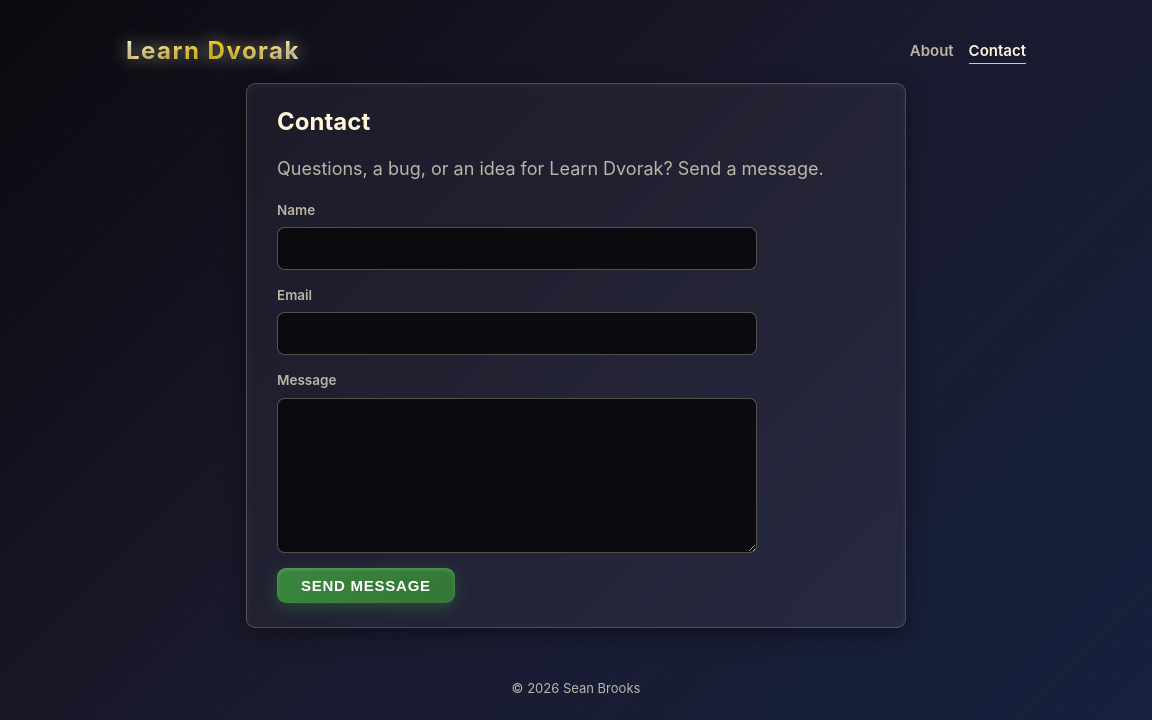
Scenario: the Contact form › locks the form while the message is sending
In the field labelled "Name": (517,249) [277,227,757,270], type "Ada"
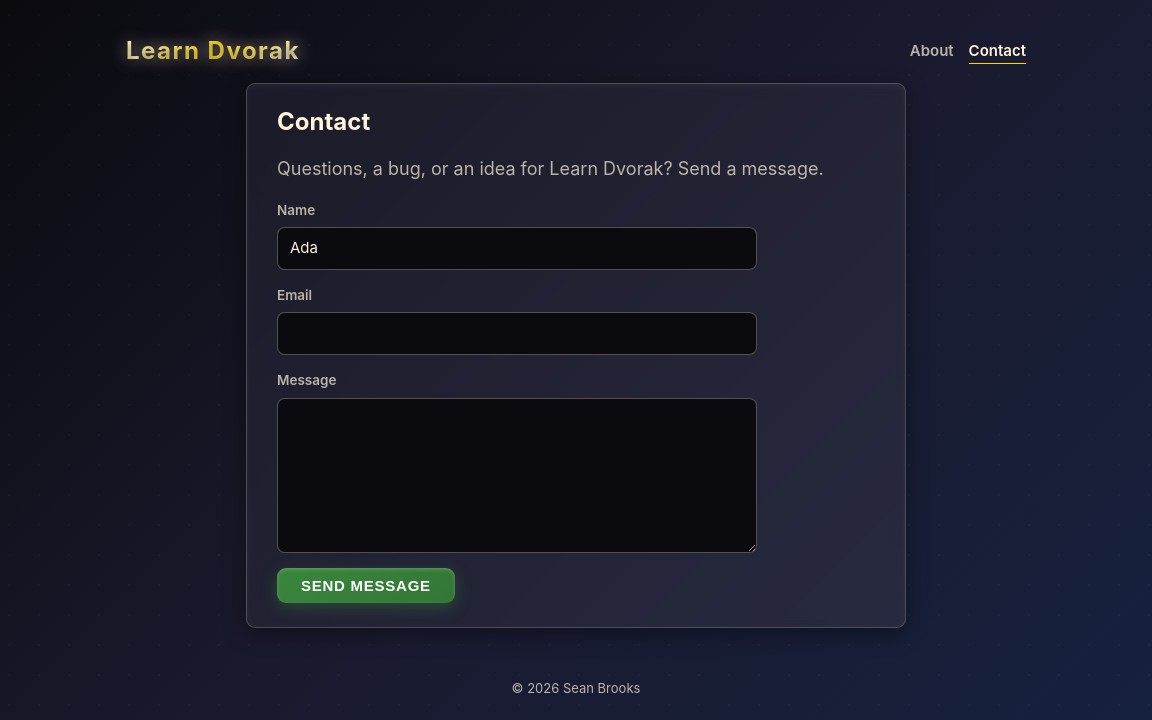
In the field labelled "Email": (517,334) [277,312,757,355], type "ada@example.com"
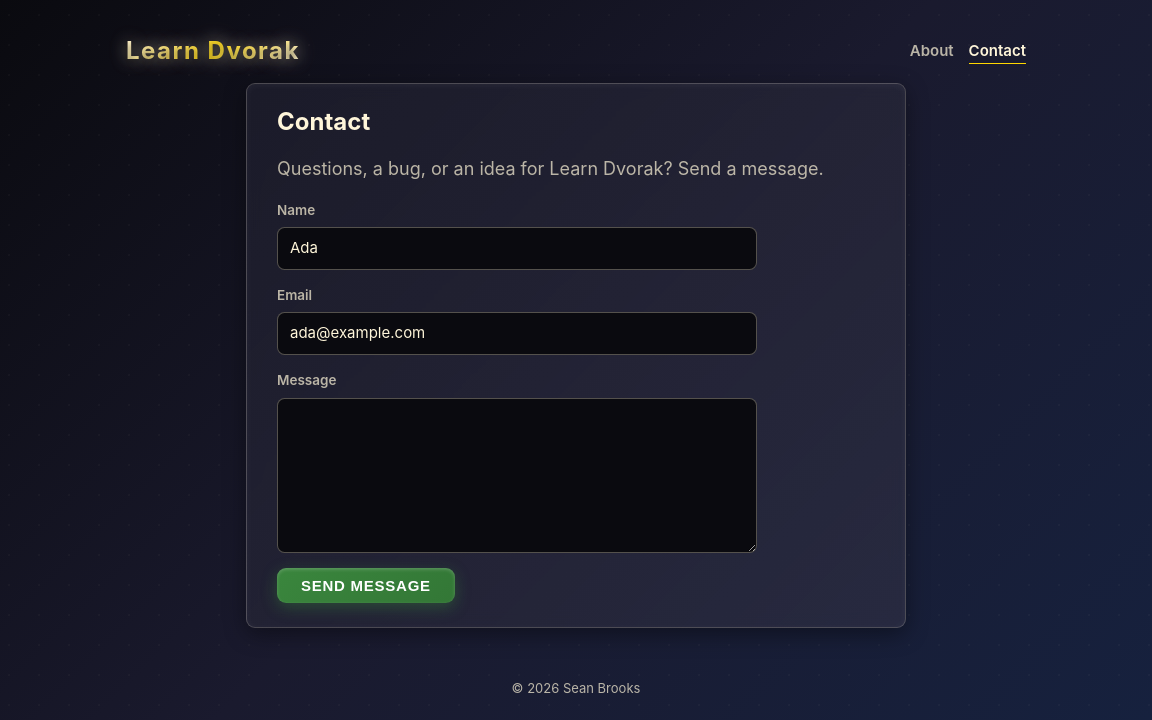
In the text box labelled "Message": (517,475) [277,398,757,553], type "Hello"
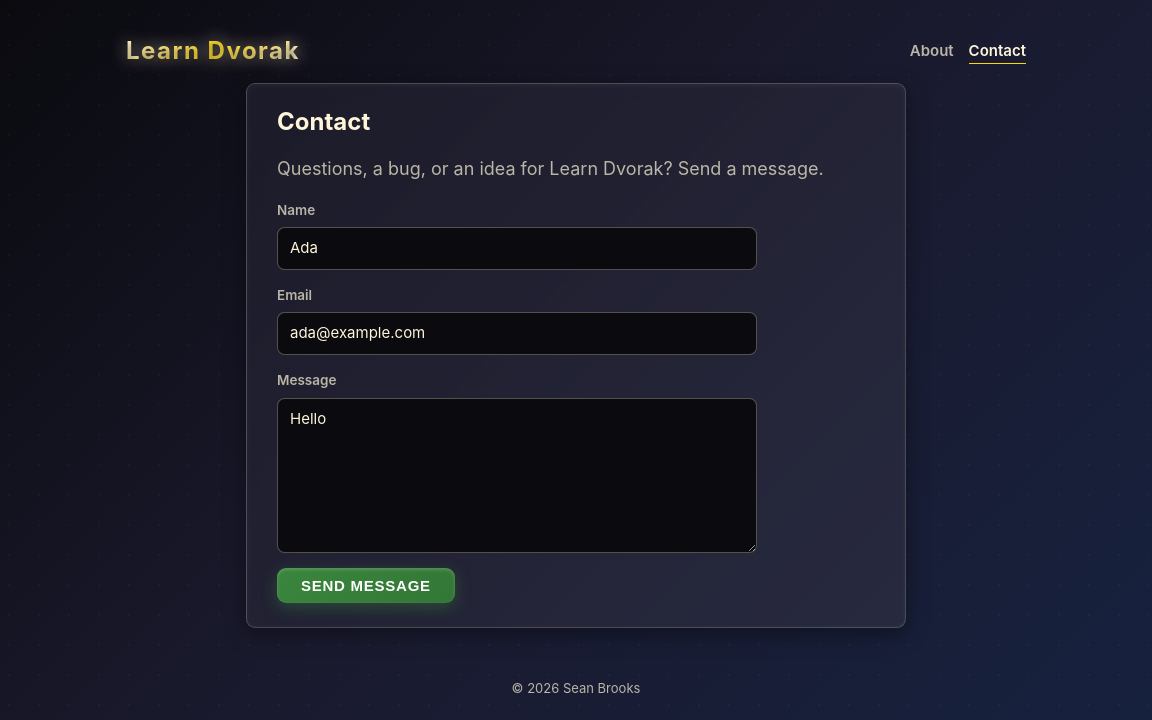
Submit the form from the button "Send message", box [277,568,455,603]
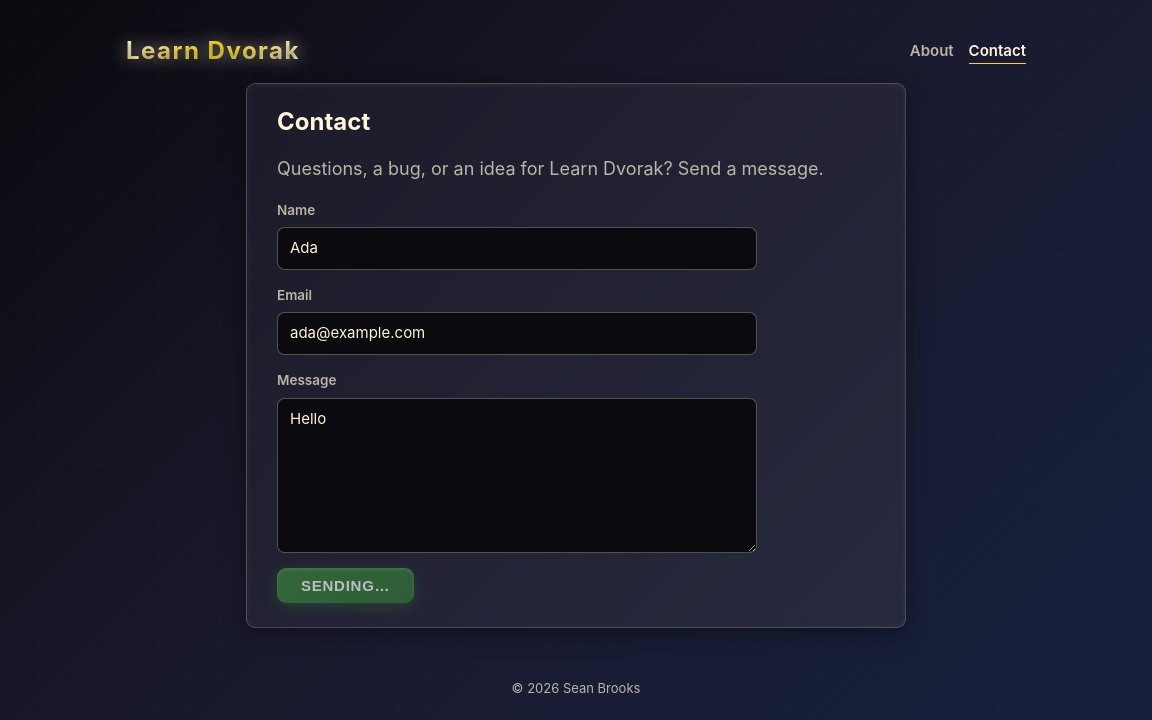
Check: the button "Sending…" is disabled, box [277,568,414,603]
